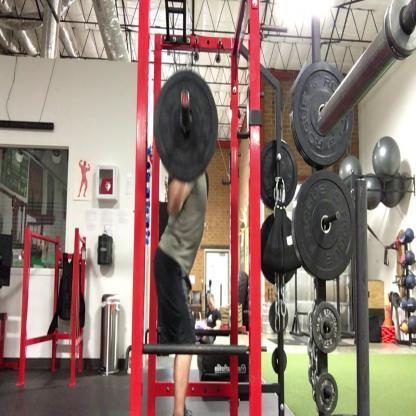barbell: (261, 174, 358, 284), (155, 70, 218, 181)
